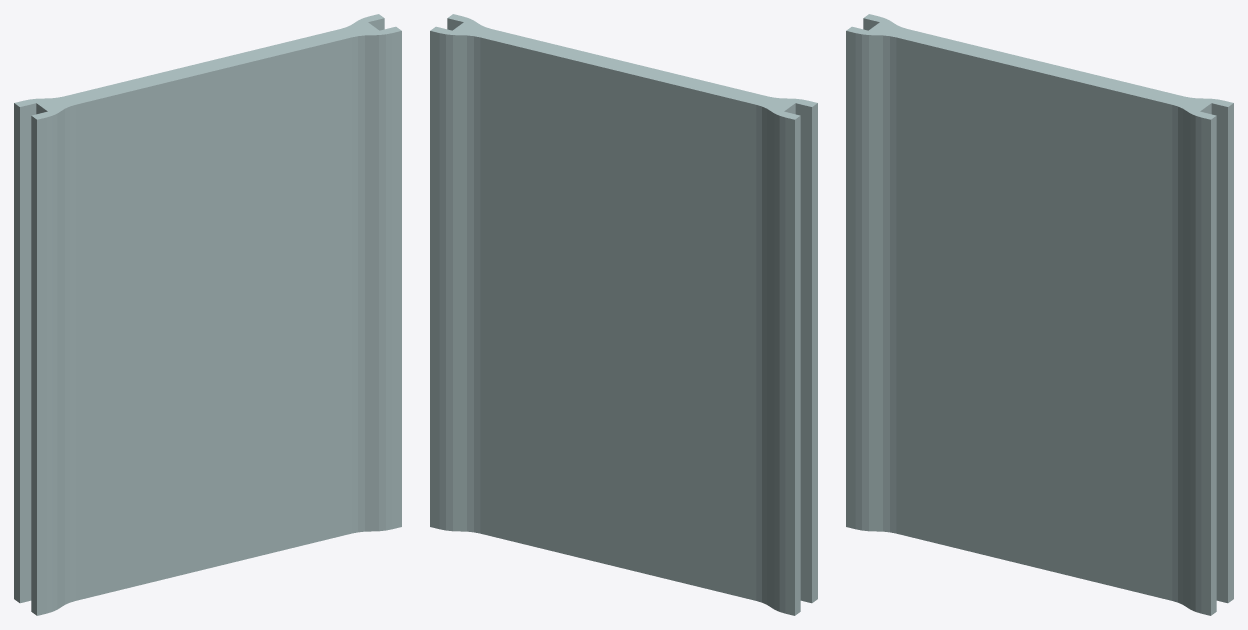
Rendered from vidrio.glb.
The picture shows the model from 3 angles, left to right: view 1: azimuth 30°, elevation 25°; view 2: azimuth 150°, elevation 25°; view 3: azimuth 330°, elevation 25°; orthographic projection.
Parts seen in each view (by area): view 1: SOPORTE VIDFRIO; view 2: SOPORTE VIDFRIO; view 3: SOPORTE VIDFRIO.
Boxes of the visible parts, box(x1,y1,x2,y2) form: SOPORTE VIDFRIO: box(14, 14, 401, 615); SOPORTE VIDFRIO: box(430, 14, 817, 615); SOPORTE VIDFRIO: box(846, 14, 1233, 615).
Size of the model in its own units: 0.11 by 0.143 by 0.012.
